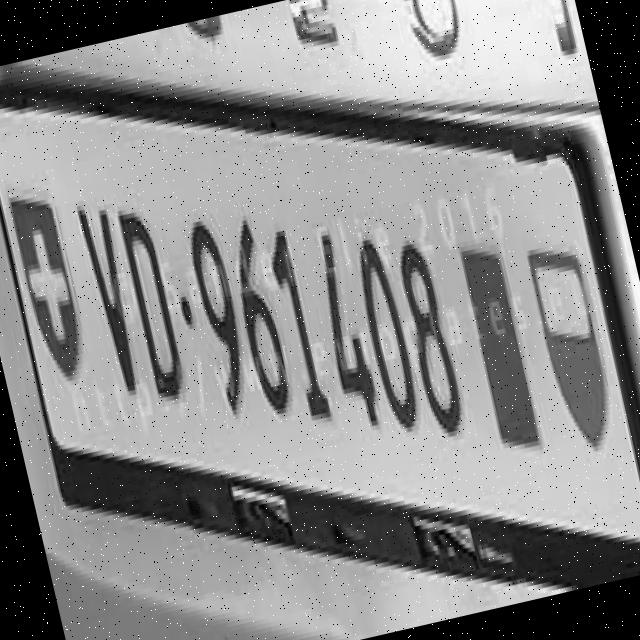Autre: (0, 89, 640, 556)
